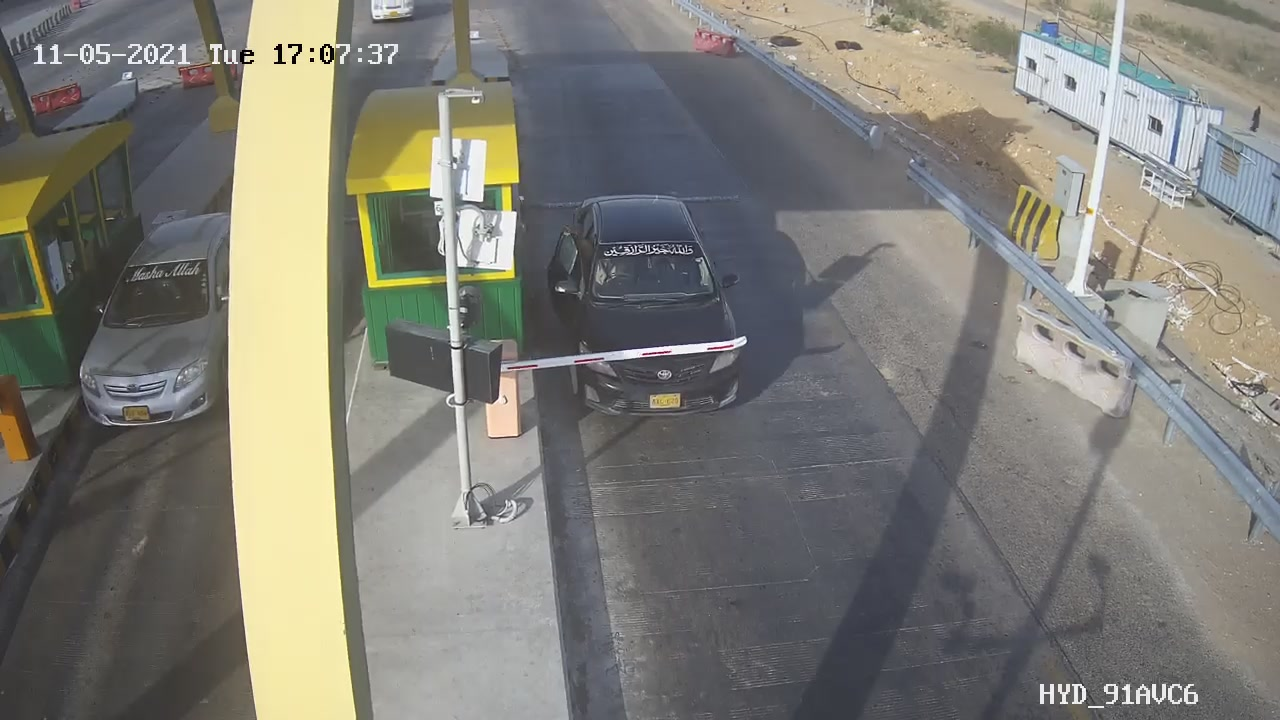F1: (542, 182, 766, 443)
